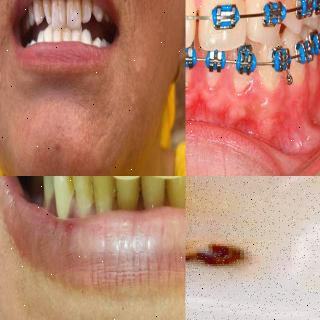Gum Swelling: (186, 71, 288, 111)
cavities: (185, 176, 278, 320)
maligned: (50, 0, 68, 32), (66, 0, 83, 26), (80, 0, 94, 27), (40, 0, 52, 25), (52, 22, 62, 46), (43, 23, 54, 43), (61, 24, 71, 44), (72, 26, 83, 44)
plaque: (157, 176, 175, 208), (106, 177, 122, 212), (85, 176, 101, 208), (136, 178, 148, 212), (65, 176, 79, 202), (287, 0, 304, 18), (285, 0, 307, 13)
stains: (78, 2, 84, 23), (48, 2, 54, 20), (40, 2, 45, 16), (90, 0, 94, 12)
